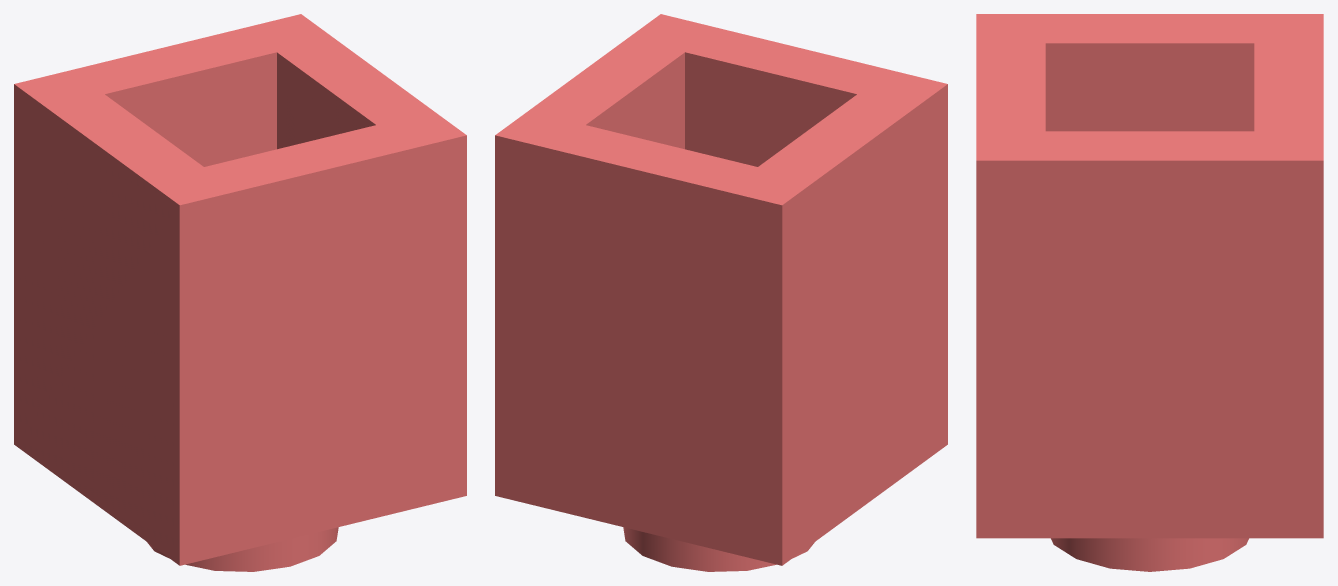
3 renders of one model, left to right at view 1: azimuth 30°, elevation 25°; view 2: azimuth 150°, elevation 25°; view 3: azimuth 270°, elevation 25°, orthographic. The views are drawn at different scales.
Visible parts, largest first — view 1: LDrawPart; view 2: LDrawPart; view 3: LDrawPart.
Boxes of the visible parts, box(x1,y1,x2,y2) form: LDrawPart: box(14, 14, 466, 571); LDrawPart: box(495, 14, 947, 571); LDrawPart: box(976, 14, 1323, 571).
Size of the model in its own units: 0.14 by 0.196 by 0.14.
